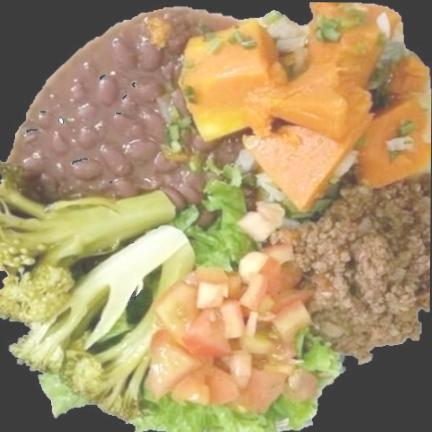beans: (11, 8, 240, 207)
broccoli: (0, 167, 193, 420)
meat: (276, 174, 431, 361)
salad: (177, 177, 258, 274), (131, 394, 317, 432), (297, 334, 341, 388)
tomato: (150, 246, 316, 412)
